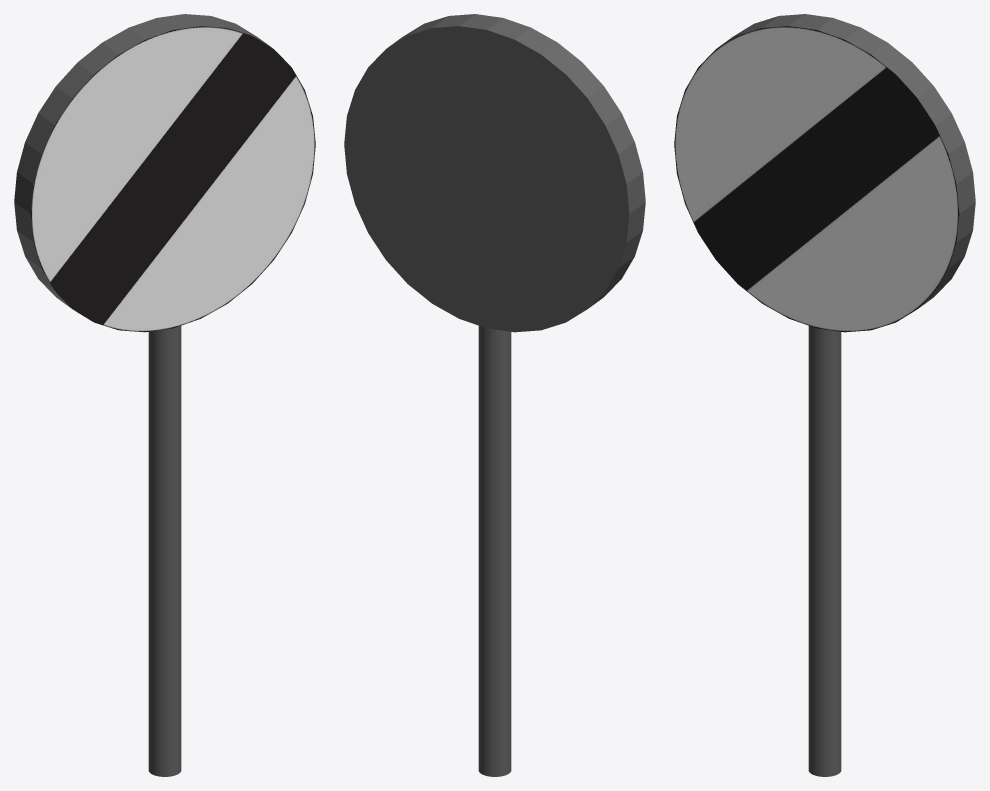
File: SignGivingOrderNationalSpeedLimit.obj
The picture shows the model from 3 angles, left to right: view 1: azimuth 30°, elevation 25°; view 2: azimuth 150°, elevation 25°; view 3: azimuth 330°, elevation 25°; orthographic projection.
Parts seen in each view (by area): view 1: Cylinder, Cylinder.001; view 2: Cylinder, Cylinder.001; view 3: Cylinder, Cylinder.001.
Boxes of the visible parts, x1=… form: Cylinder: x1=14, y1=14, x2=315, y2=332; Cylinder.001: x1=148, y1=326, x2=181, y2=776; Cylinder: x1=344, y1=14, x2=645, y2=332; Cylinder.001: x1=478, y1=326, x2=511, y2=776; Cylinder: x1=674, y1=14, x2=975, y2=332; Cylinder.001: x1=808, y1=326, x2=841, y2=776.
Bounding box in the file's own units: 1 × 2.5 × 0.1.
Materials: 3 (1 with a texture image).
